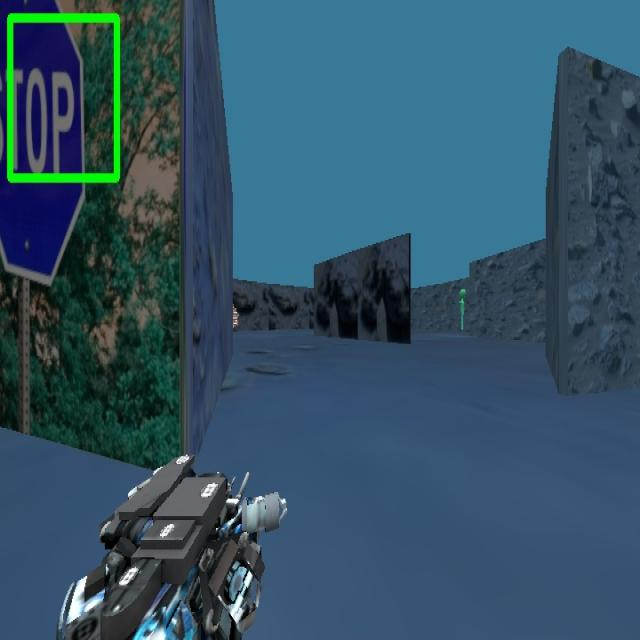Alien: (456, 275, 471, 341)
Mushroom: (56, 452, 288, 639)
Stop_Sign: (0, 1, 86, 287)
